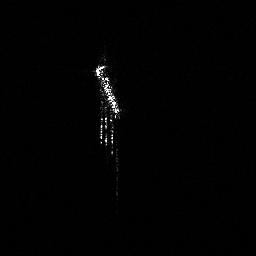ship: (90, 61, 125, 159)
